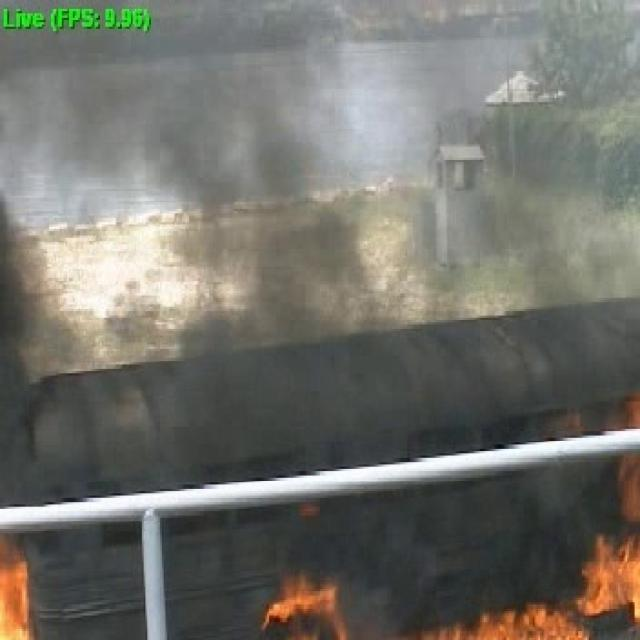Fire: (585, 535, 640, 621), (260, 582, 346, 634), (422, 616, 590, 640), (2, 560, 31, 632)
Smoke: (146, 16, 382, 342), (488, 68, 628, 400), (0, 198, 62, 484)
